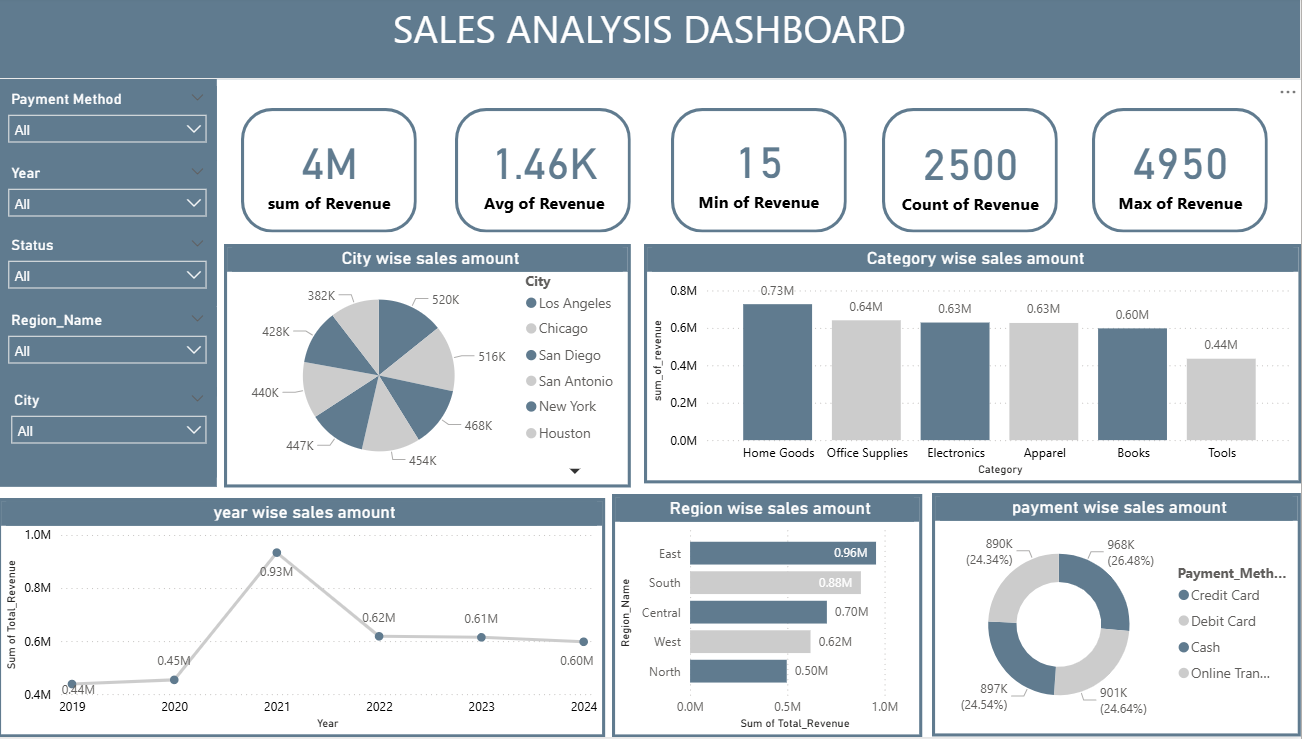

Layout of this report page (visuals, bound fields, positions):
{"tool":"powerbi","page":{"name":"Page 1","canvas":[1280,720],"ordinal":0},"visuals":[{"type":"shape","box":[457,107.6,171.3,121.3],"z":0},{"type":"card","fields":{"Values":["Customers.avg_of_revenue"]},"box":[466.8,117.4,152.7,100.8],"z":1000},{"type":"shape","box":[666.4,107.6,171.3,121.3],"z":2000},{"type":"shape","box":[871.9,107.6,171.3,121.3],"z":3000},{"type":"shape","box":[1076.5,107.6,171.3,121.3],"z":4000},{"type":"shape","box":[248.6,107.6,171.3,121.3],"z":5000},{"type":"card","fields":{"Values":["Customers.max_of_revenue"]},"box":[1088.2,116.5,148.7,102.8],"z":6000},{"type":"card","fields":{"Values":["Customers.min_of_revenue"]},"box":[675.2,116.5,153.6,100.8],"z":7000},{"type":"textbox","box":[11.7,0,1268.3,79.8],"z":8000},{"type":"card","fields":{"Values":["Customers.sum_of_revenue"]},"box":[265.2,118.4,139,98.8],"z":9000},{"type":"card","fields":{"Values":["Customers.count_of_revenue"]},"box":[884.6,118.4,146.8,101.8],"z":10000},{"type":"slicer","fields":{"Values":["Customers.City"]},"box":[17.6,158.5,192.8,70.5],"z":11000},{"type":"textbox","box":[11.7,80.2,213.3,397.3],"z":12000},{"type":"slicer","fields":{"Values":["Regions.Region_Name"]},"box":[11.7,301.4,213.3,87.1],"z":13000},{"type":"slicer","fields":{"Values":["Transactions.Status"]},"box":[11.7,229,213.3,72.4],"z":14000},{"type":"slicer","fields":{"Values":["Sales_Reps.Hire_Date.Variation.Date Hierarchy.Year"]},"box":[11.7,158.5,213.3,70.5],"z":15000},{"type":"slicer","fields":{"Values":["Transactions.Payment_Method"]},"box":[11.7,87.1,213.3,73.4],"z":16000},{"type":"slicer","fields":{"Values":["Customers.City"]},"box":[14.7,379.7,210.4,88.1],"z":17000},{"type":"pieChart","title":"City wise sales amount","fields":{"Category":["Customers.City"],"Y":["Sum(Transactions.Total_Revenue)"]},"box":[231.9,240.7,396.3,236.8],"z":18000},{"type":"lineChart","title":"year wise sales amount","fields":{"Category":["Sales_Reps.Hire_Date.Variation.Date Hierarchy.Year"],"Y":["Sum(Transactions.Total_Revenue)"]},"box":[11.7,487.3,591.1,232.9],"z":19000},{"type":"barChart","title":"Region wise sales amount","fields":{"Category":["Regions.Region_Name"],"Y":["Sum(Transactions.Total_Revenue)"]},"box":[609.7,483.4,302.4,236.8],"z":20000},{"type":"clusteredColumnChart","title":"Category wise sales amount","fields":{"Category":["Products.Category"],"Y":["Customers.sum_of_revenue"]},"box":[640,240.7,640,232.9],"z":21000},{"type":"donutChart","title":"payment wise sales amount","fields":{"Category":["Transactions.Payment_Method"],"Y":["Customers.sum_of_revenue"]},"box":[921,483,359,237],"z":22000}]}

Visuals, with their boxes in screenshot pixels (x1, y1, x2, y2), scaled from the page's 1280x720 canvas onto the 1302x739 screenshot:
shape: 465, 110, 639, 235
card - Customers.avg_of_revenue: 475, 120, 630, 224
shape: 678, 110, 852, 235
shape: 887, 110, 1061, 235
shape: 1095, 110, 1269, 235
shape: 253, 110, 427, 235
card - Customers.max_of_revenue: 1107, 120, 1258, 225
card - Customers.min_of_revenue: 687, 120, 843, 223
textbox: 12, 0, 1301, 82
card - Customers.sum_of_revenue: 270, 122, 411, 223
card - Customers.count_of_revenue: 900, 122, 1049, 226
slicer - Customers.City: 18, 163, 214, 235
textbox: 12, 82, 229, 490
slicer - Regions.Region_Name: 12, 309, 229, 399
slicer - Transactions.Status: 12, 235, 229, 309
slicer - Sales_Reps.Hire_Date.Variation.Date Hierarchy.Year: 12, 163, 229, 235
slicer - Transactions.Payment_Method: 12, 89, 229, 165
slicer - Customers.City: 15, 390, 229, 480
"City wise sales amount" pieChart: 236, 247, 639, 490
"year wise sales amount" lineChart: 12, 500, 613, 738
"Region wise sales amount" barChart: 620, 496, 928, 738
"Category wise sales amount" clusteredColumnChart: 651, 247, 1301, 486
"payment wise sales amount" donutChart: 937, 496, 1301, 738
